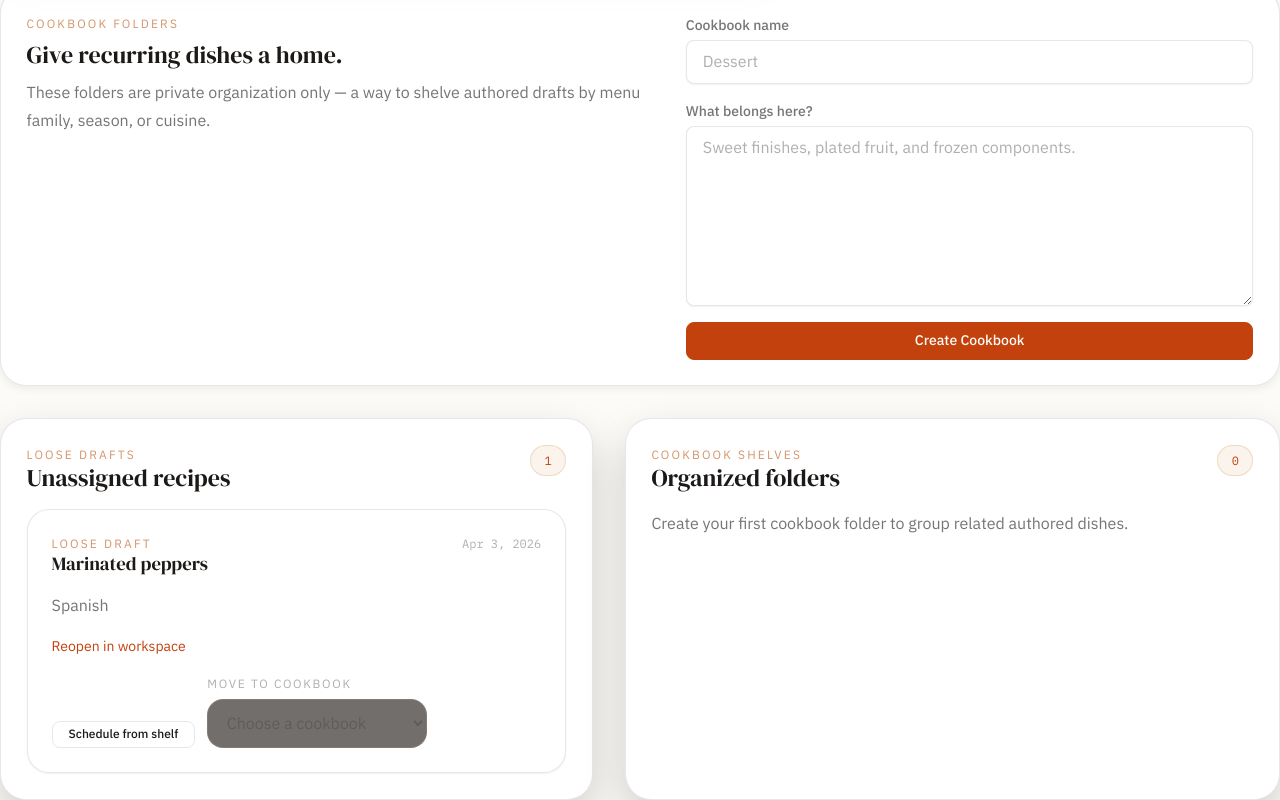
RecipeLibraryPage › shows inline recovery when session creation fails
(page scrolled)
Click the button "Schedule from shelf".
click(123, 735)  # box x1=52 y1=721 x2=195 y2=748
(page scrolled)
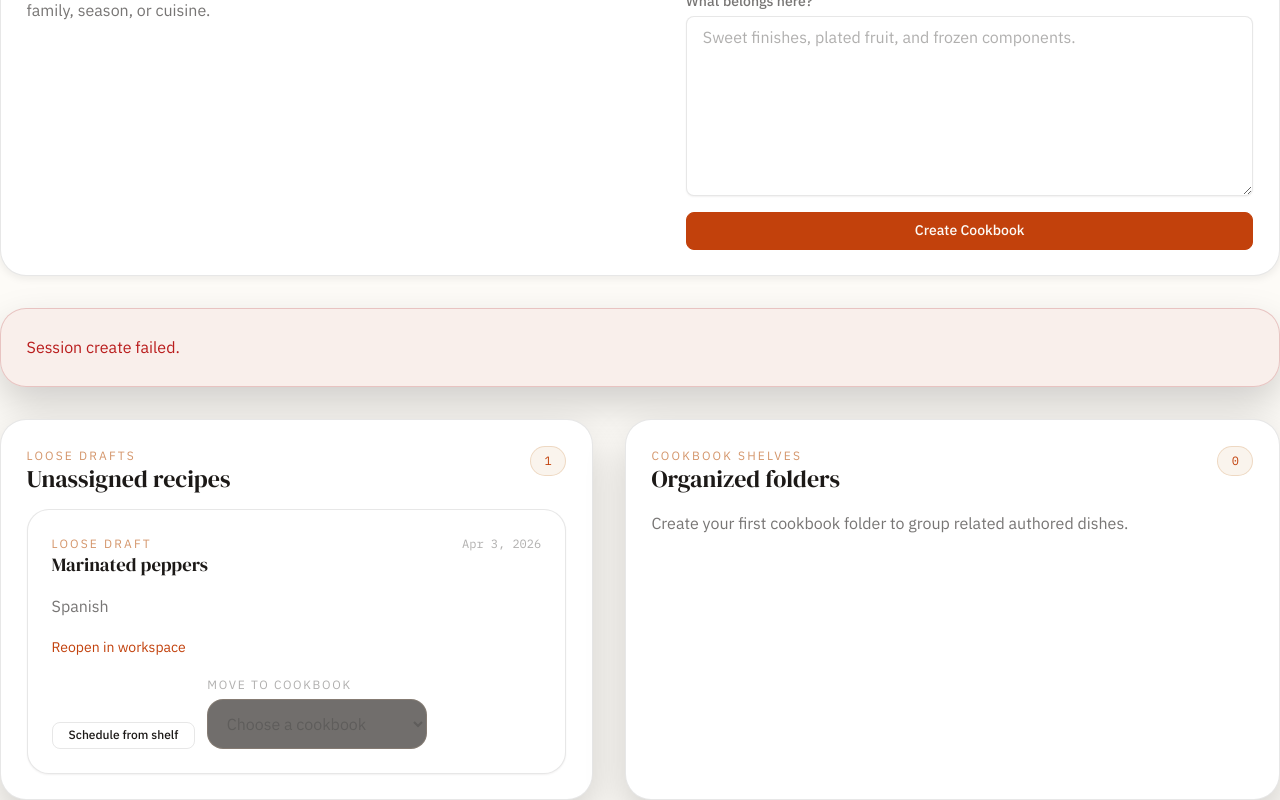
expect the message reads "Session create failed.": met, box x1=27 y1=337 x2=180 y2=357
